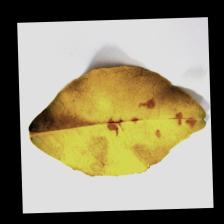black spot: (95, 98, 200, 147)
